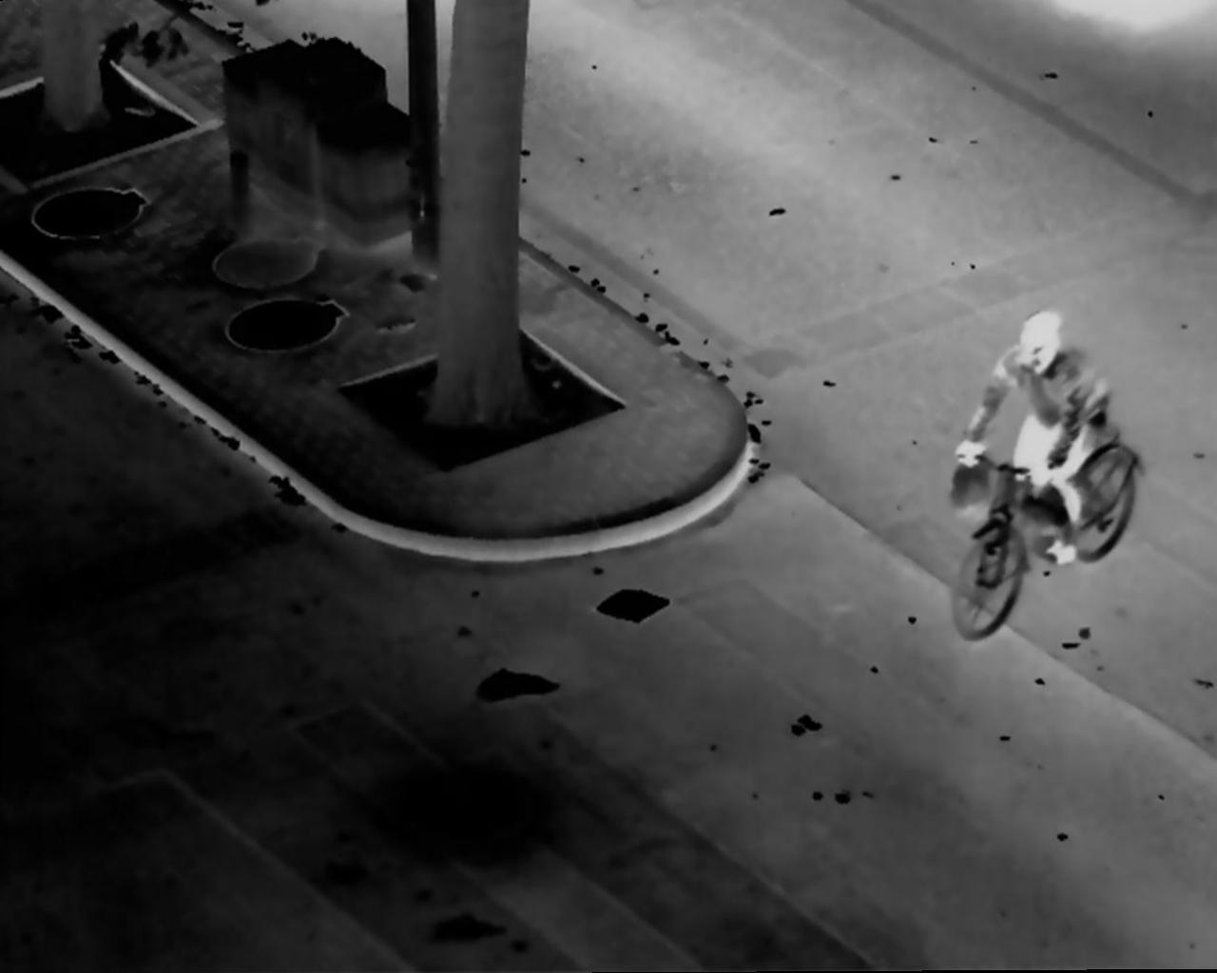person: (955, 306, 1111, 572)
